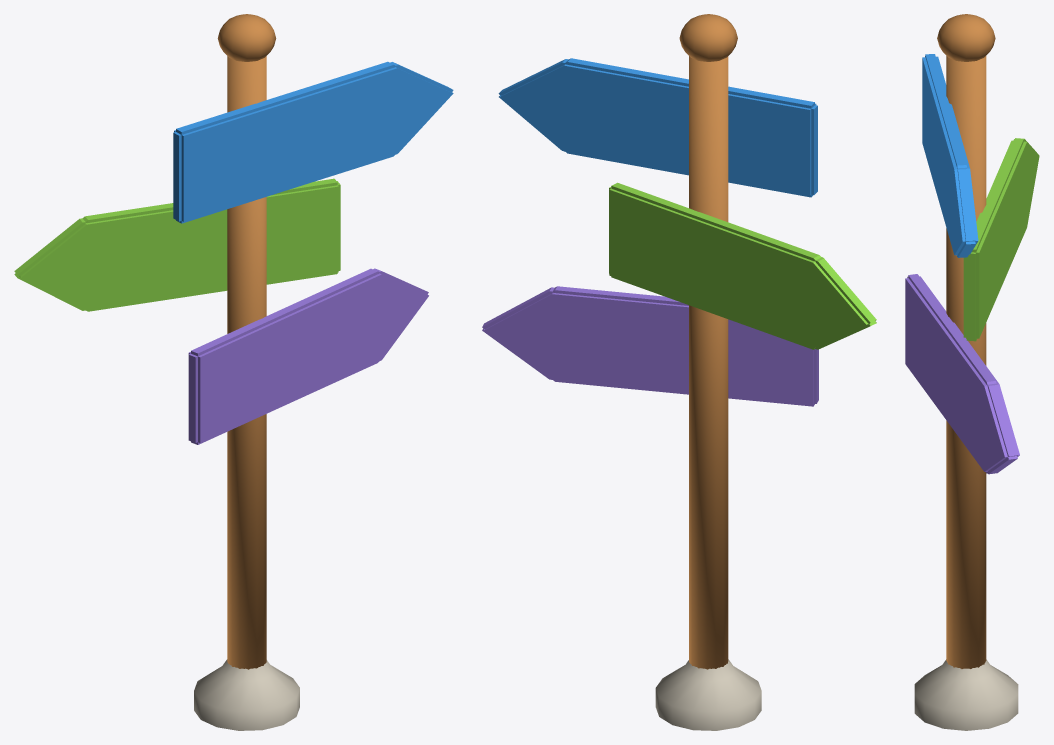
The model's file is signpost.glb.
The picture shows the model from 3 angles, left to right: view 1: azimuth 30°, elevation 25°; view 2: azimuth 150°, elevation 25°; view 3: azimuth 270°, elevation 25°; orthographic projection.
Visible parts, largest first — view 1: signpost; view 2: signpost; view 3: signpost.
Boxes of the visible parts, left/top/right/bottom form: signpost: left=14, top=14, right=453, bottom=730; signpost: left=482, top=14, right=876, bottom=730; signpost: left=905, top=14, right=1039, bottom=730.
Bounding box in the file's own units: 1.76 × 2.87 × 0.5047.
